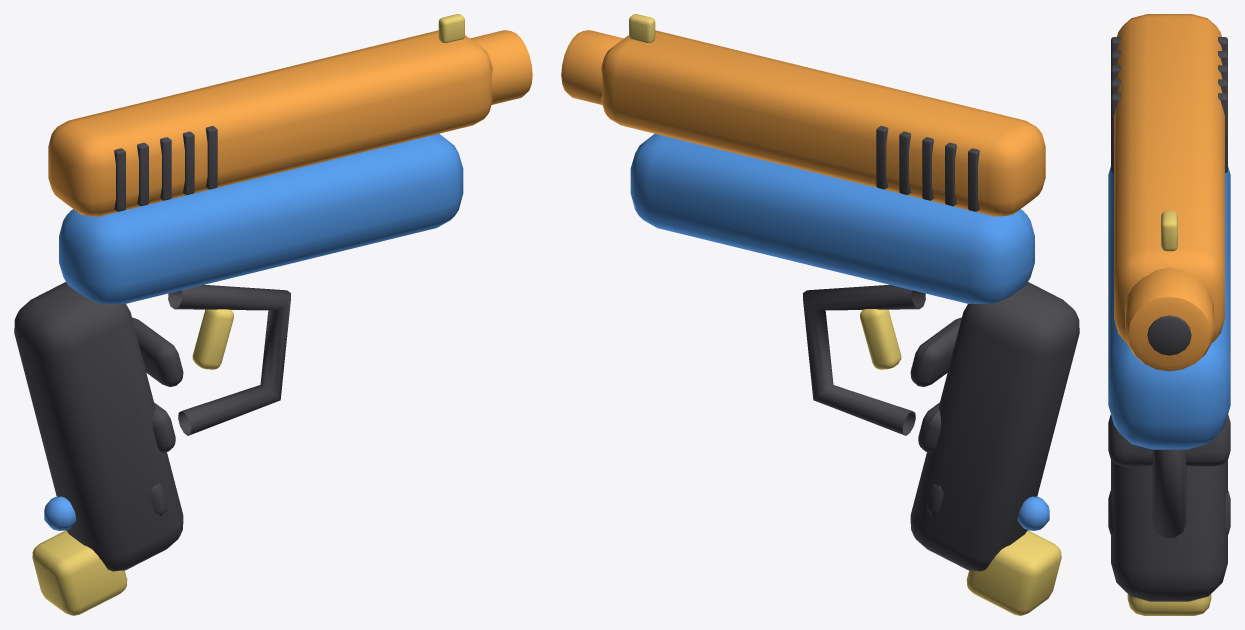
File: pistol.glb
3 renders of one model, left to right at view 1: azimuth 30°, elevation 25°; view 2: azimuth 150°, elevation 25°; view 3: azimuth 270°, elevation 25°, orthographic. The views are drawn at different scales.
Visible parts, largest first — view 1: slide, frame, handle, guard, mag, muzzle, bump0, trigger, tip0, bump1, serr4; view 2: slide, frame, handle, guard, mag, muzzle, bump0, trigger, tip0, bump1, serr4; view 3: slide, handle, frame, muzzle, guard, bump1, bore, mag, sight, serr4, bump2, serr1 (+3 smaller).
Part boxes in pixels (x1,y1,x2,y2): slide: [48, 30, 492, 216]; frame: [59, 134, 463, 303]; handle: [14, 282, 183, 571]; guard: [168, 284, 291, 435]; mag: [32, 530, 127, 615]; muzzle: [470, 30, 532, 104]; bump0: [132, 317, 183, 386]; trigger: [192, 309, 233, 369]; tip0: [44, 496, 76, 530]; bump1: [152, 402, 175, 452]; serr4: [205, 126, 217, 189]; slide: [601, 30, 1045, 216]; frame: [630, 134, 1034, 303]; handle: [910, 282, 1079, 571]; guard: [802, 284, 925, 435]; mag: [966, 530, 1061, 615]; muzzle: [561, 30, 623, 104]; bump0: [910, 317, 961, 386]; trigger: [860, 309, 901, 369]; tip0: [1017, 496, 1049, 530]; bump1: [918, 402, 941, 452]; serr4: [876, 126, 888, 189]; slide: [1114, 14, 1224, 342]; handle: [1111, 459, 1227, 601]; frame: [1108, 166, 1230, 449]; muzzle: [1125, 267, 1213, 371]; guard: [1152, 449, 1186, 537]; bump1: [1108, 415, 1230, 466]; bore: [1147, 315, 1191, 355]; mag: [1127, 594, 1211, 615]; sight: [1161, 211, 1177, 251]; serr4: [1111, 93, 1227, 172]; bump2: [1108, 490, 1230, 534]; serr1: [1111, 51, 1227, 67].
Size of the model in its own units: 0.2601 by 0.2483 by 0.044.
